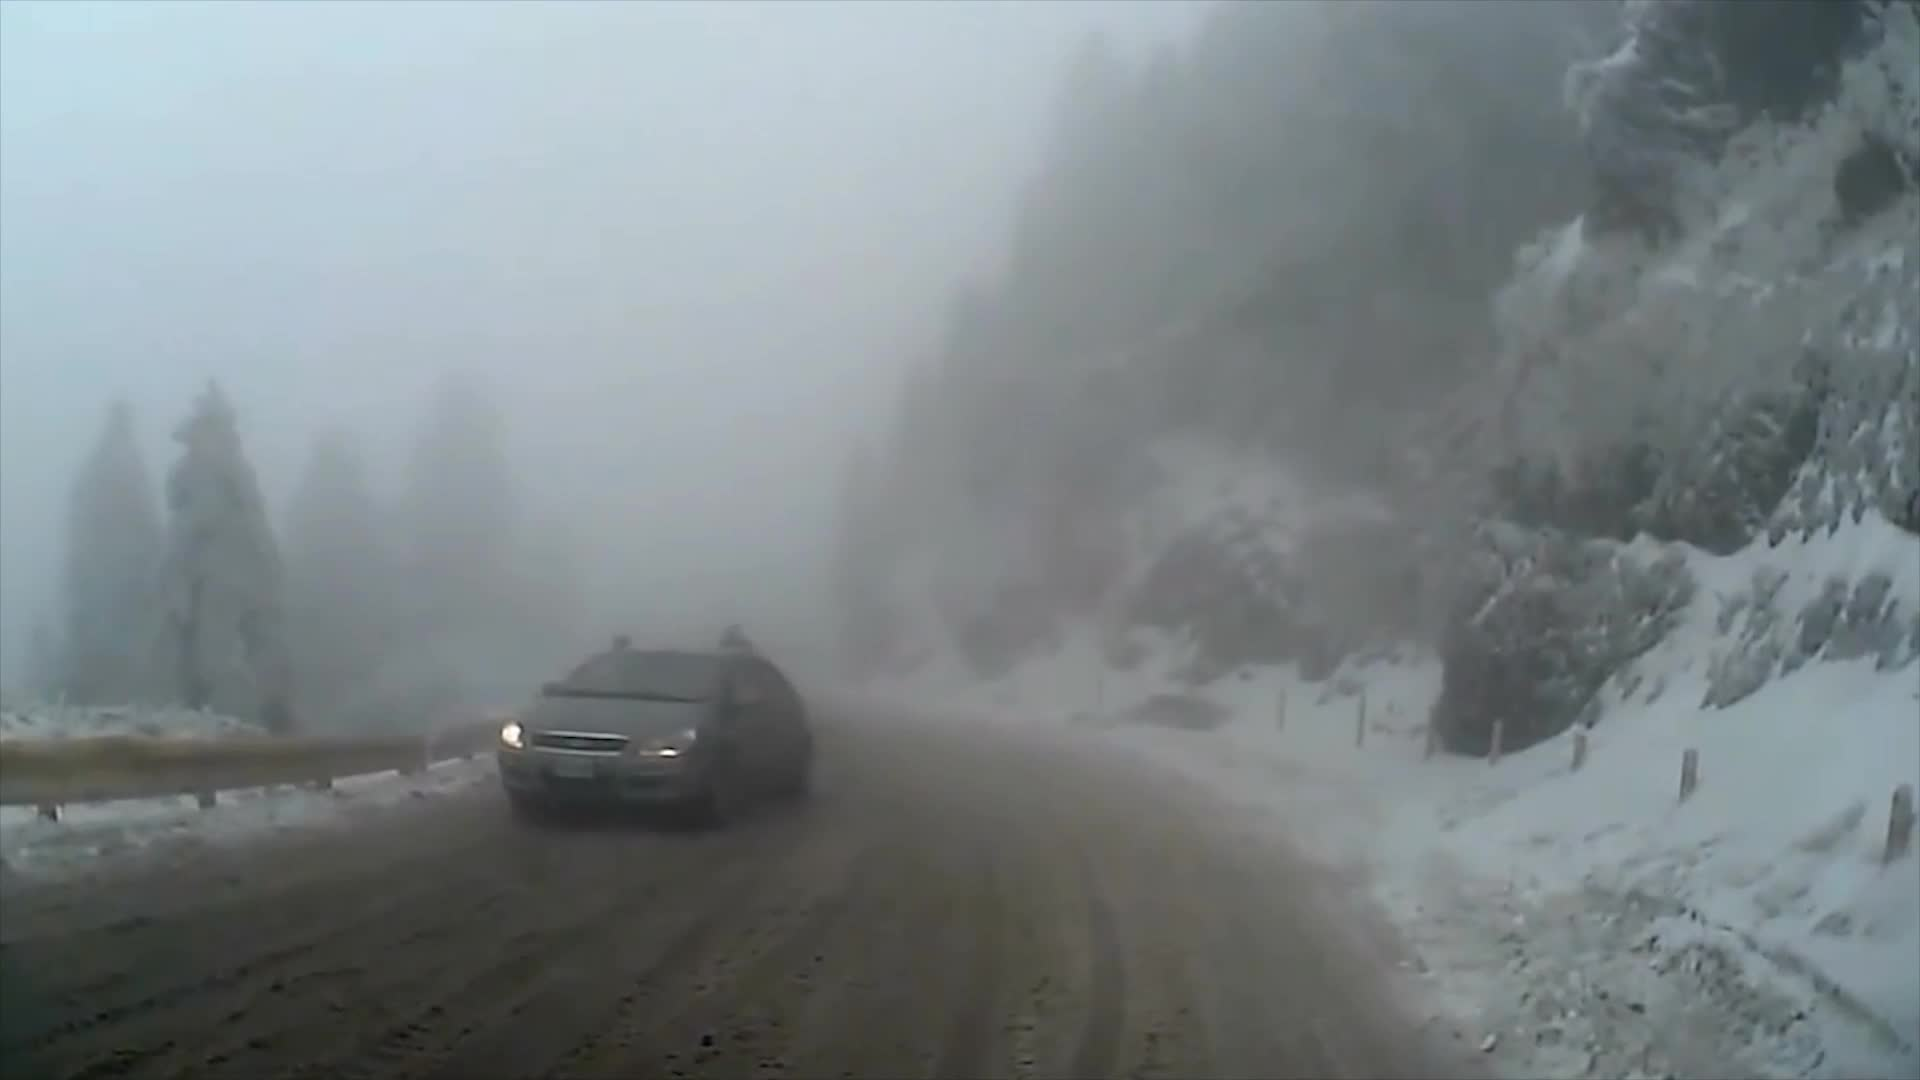vehicle: (495, 644, 811, 833)
